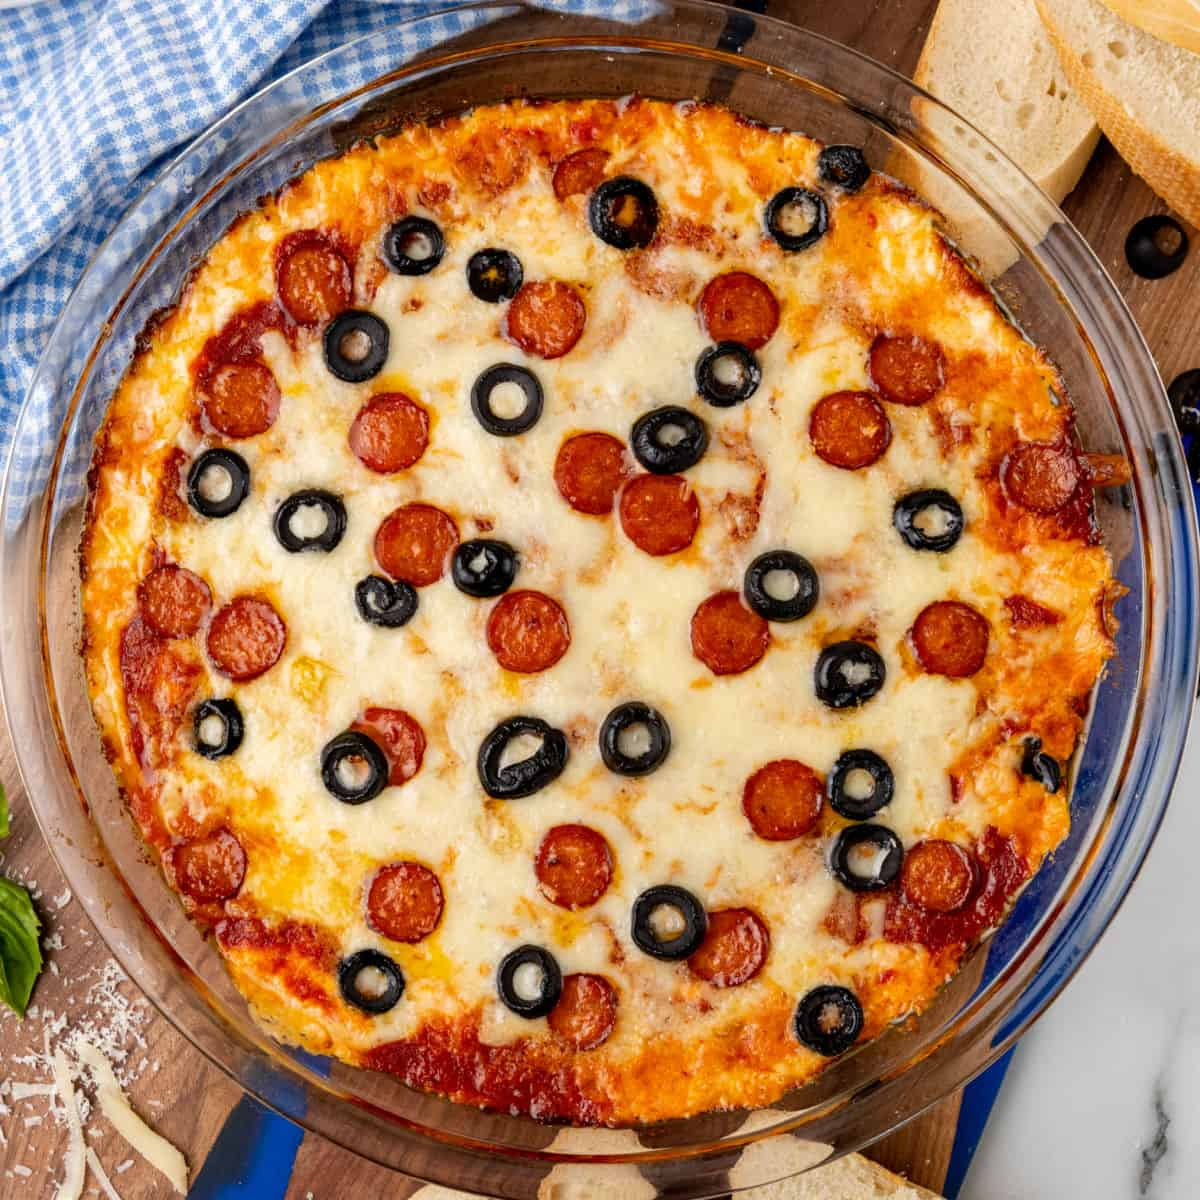Olives: (471, 715, 574, 796), (270, 485, 348, 559), (602, 700, 671, 776), (322, 309, 393, 381), (747, 551, 821, 621), (587, 176, 657, 249), (633, 888, 703, 958), (631, 404, 703, 471), (474, 363, 538, 435), (320, 736, 387, 805), (340, 943, 402, 1016), (829, 747, 897, 814), (799, 984, 863, 1053), (497, 947, 558, 1016), (765, 188, 826, 252), (819, 642, 881, 703), (836, 830, 901, 889), (700, 342, 759, 407), (351, 571, 420, 626), (188, 701, 247, 759), (386, 213, 443, 274), (453, 541, 512, 598), (190, 456, 245, 515), (889, 495, 953, 544), (460, 249, 521, 301), (821, 149, 858, 186), (1030, 744, 1058, 790)
Pepperoni: (479, 587, 566, 675), (278, 234, 364, 320), (533, 822, 615, 909), (368, 853, 443, 947), (378, 500, 460, 582), (809, 387, 891, 464), (548, 435, 631, 512), (693, 587, 767, 673), (196, 355, 278, 431), (173, 822, 247, 904), (216, 597, 286, 685), (747, 757, 822, 837), (347, 393, 427, 468), (623, 469, 693, 554), (508, 280, 589, 348), (356, 703, 420, 790), (919, 597, 986, 677), (907, 840, 978, 914), (711, 273, 778, 351), (546, 974, 618, 1046), (693, 909, 759, 986), (878, 324, 942, 401), (144, 566, 209, 636), (1012, 445, 1069, 512), (551, 138, 608, 198), (190, 703, 244, 759)
Pizza: (77, 100, 1114, 1120)
